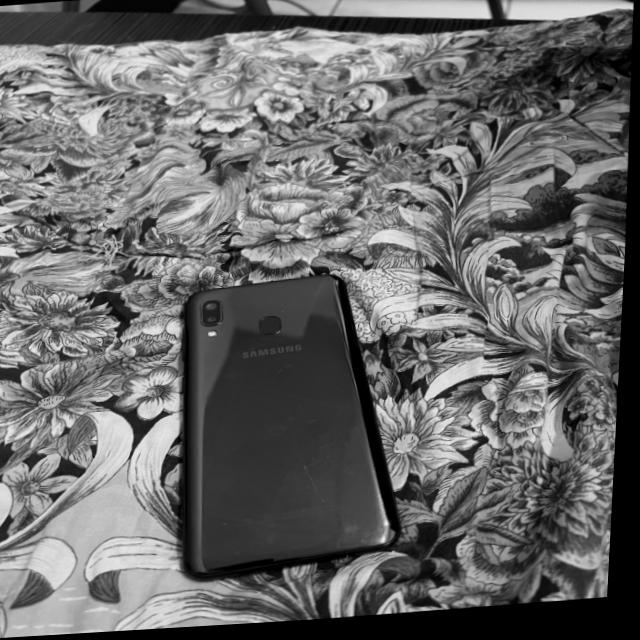Smartphone: (188, 279, 406, 583)
